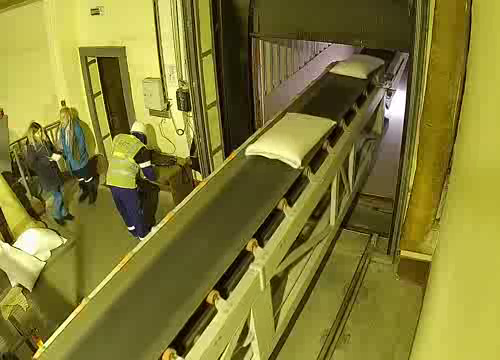bag: (244, 113, 337, 169), (327, 54, 387, 80)
